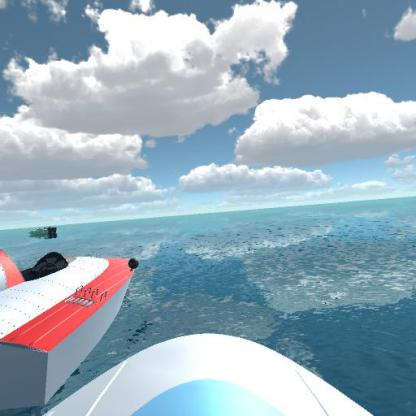usv0: (25, 222, 66, 240)
usv3: (0, 246, 144, 408)
